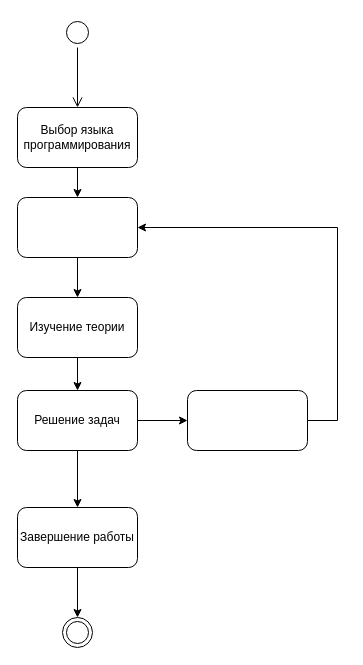
Some shapes in this 363 by 665 pixel diagram are drawn without their labels. Here are the shapes that lost their labels. From the top down, the centre of each, then its label:
the point at 77,227: Выбор темы
the point at 247,420: Продолжение обучения
